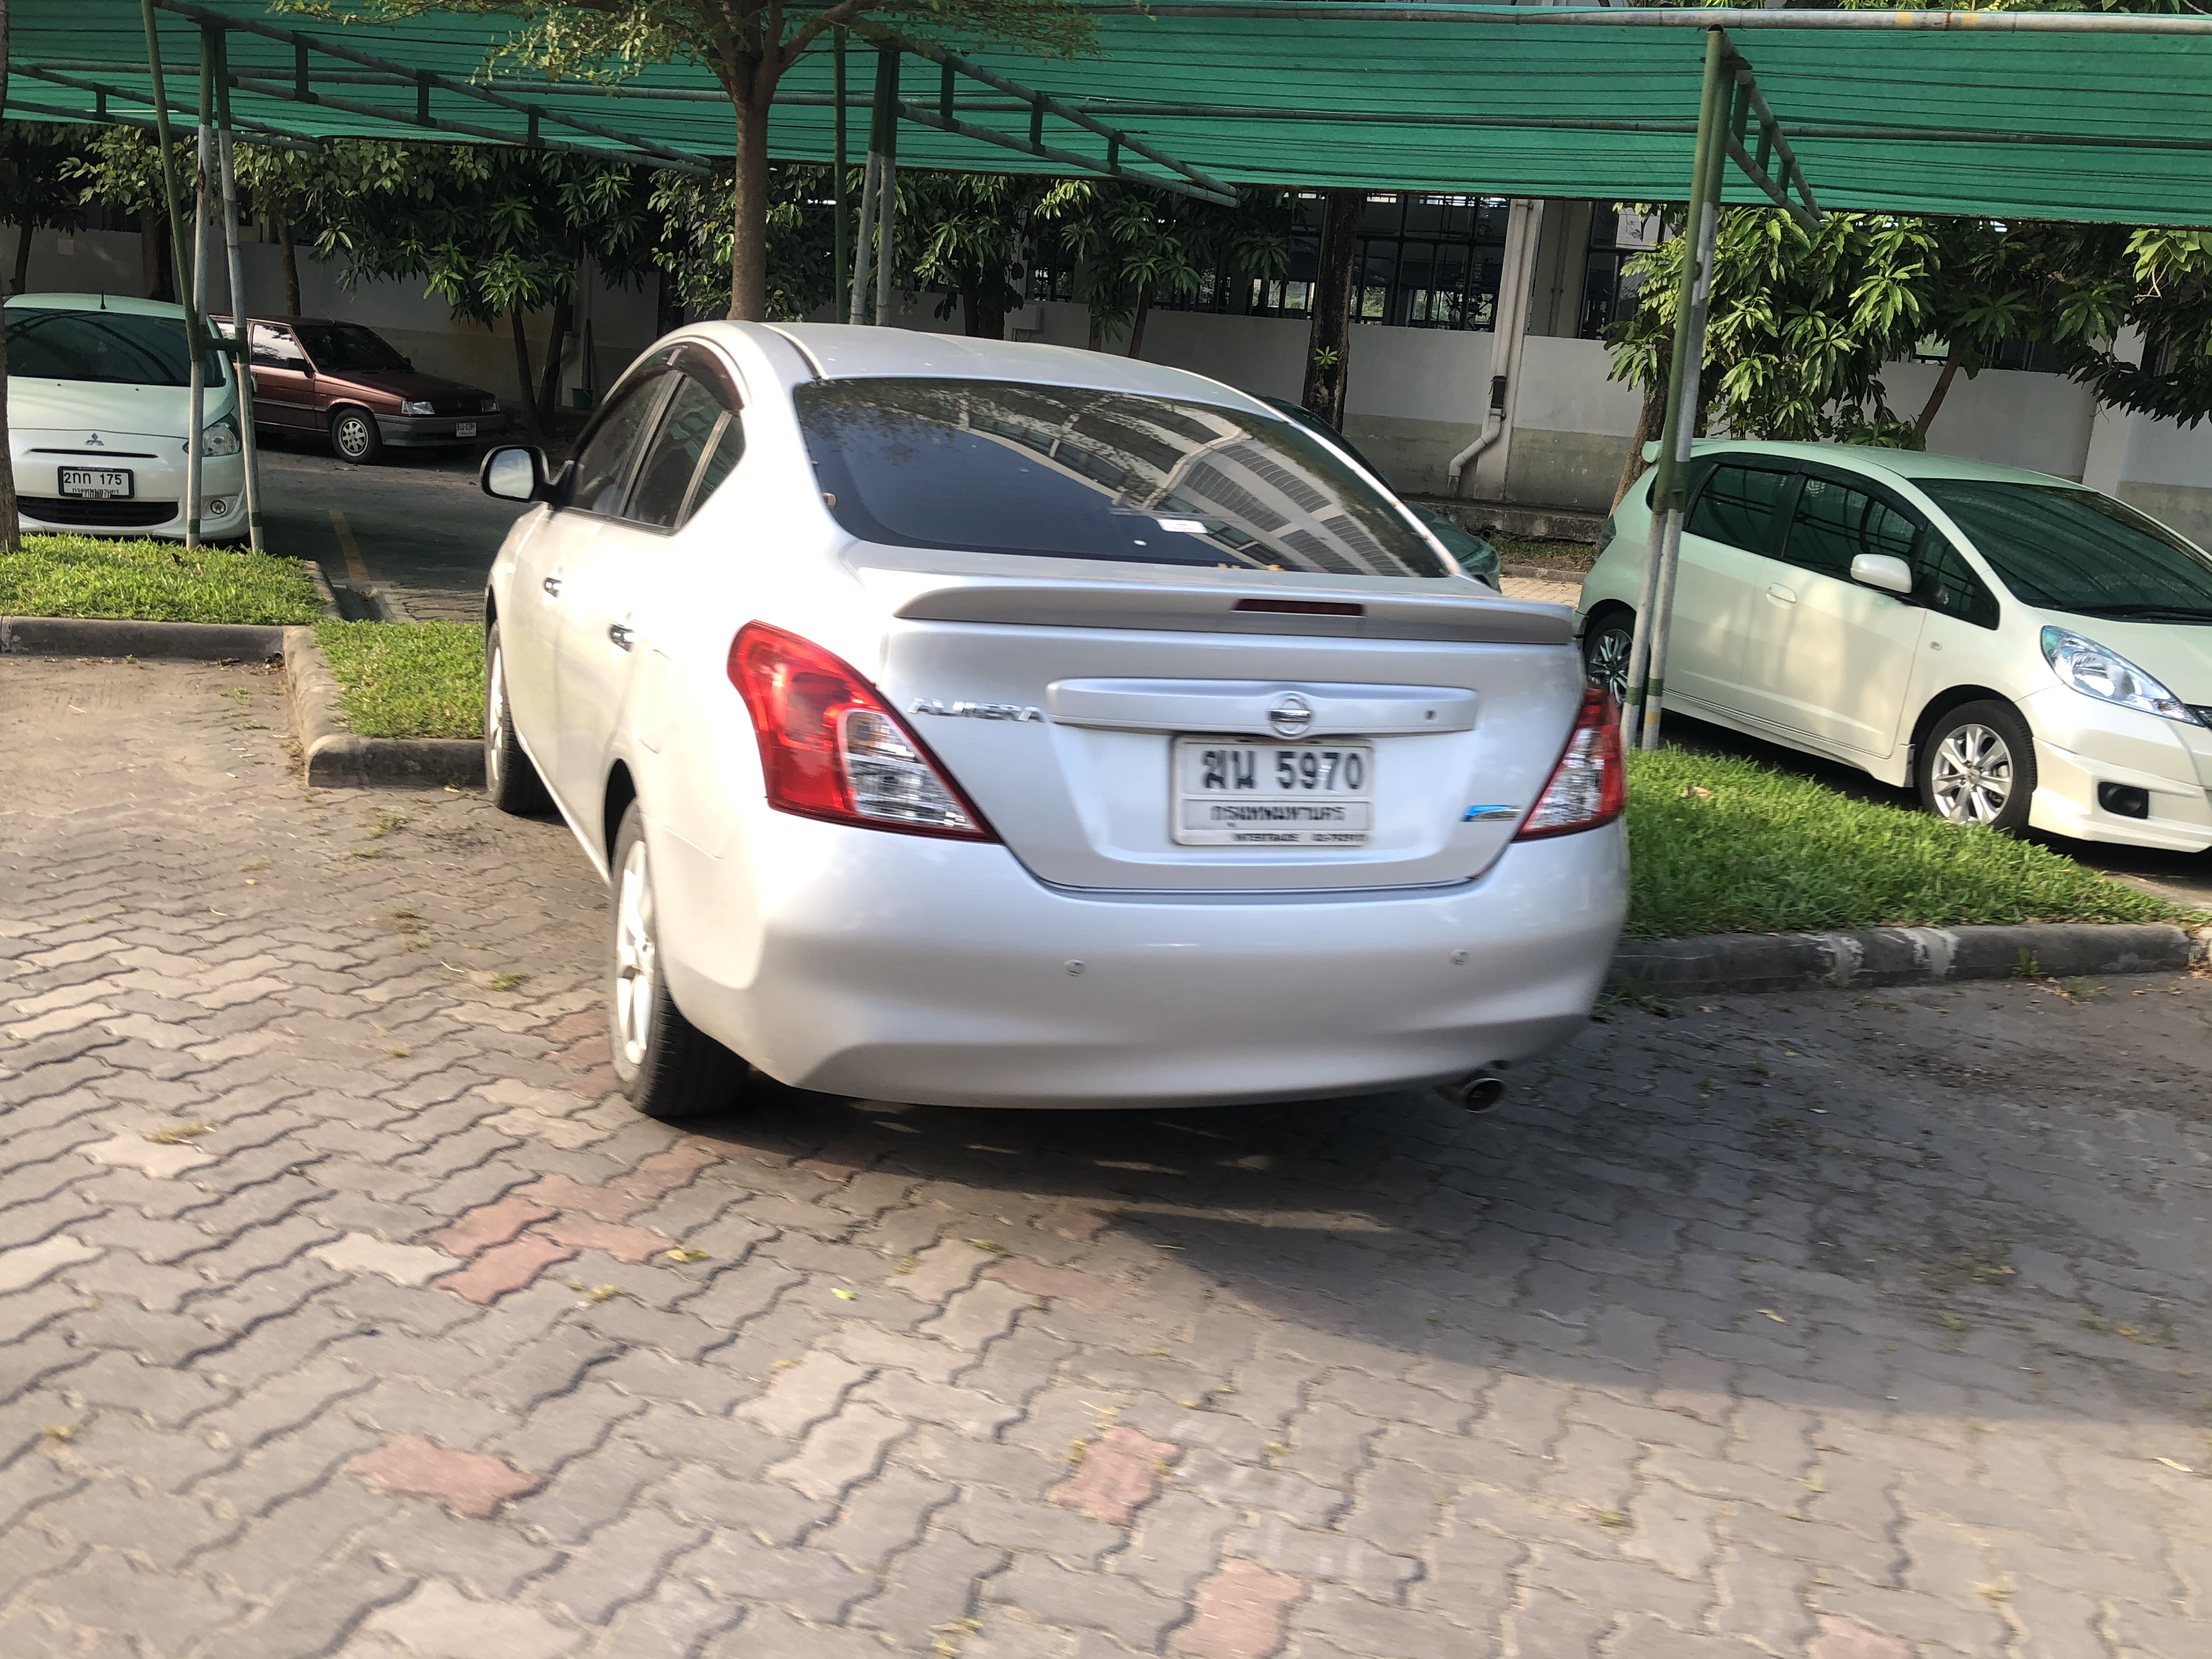in: (1183, 748, 1372, 833)
out: (1165, 727, 1383, 850)
